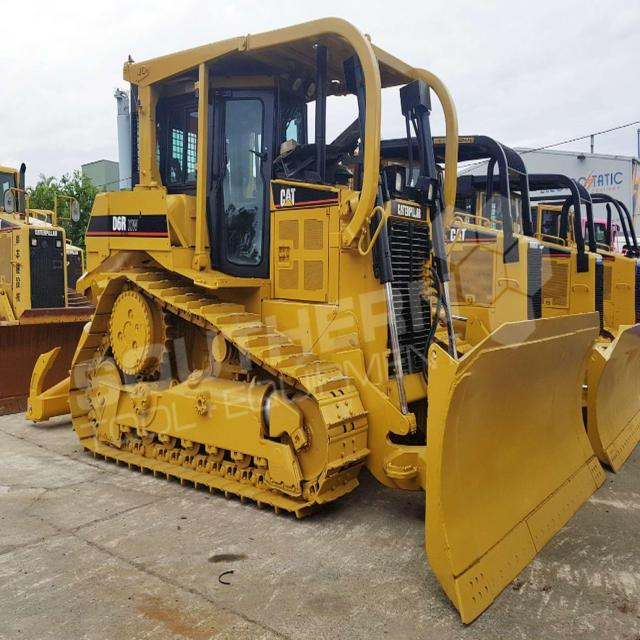buldozerpayloadergrader: (31, 25, 639, 628)
